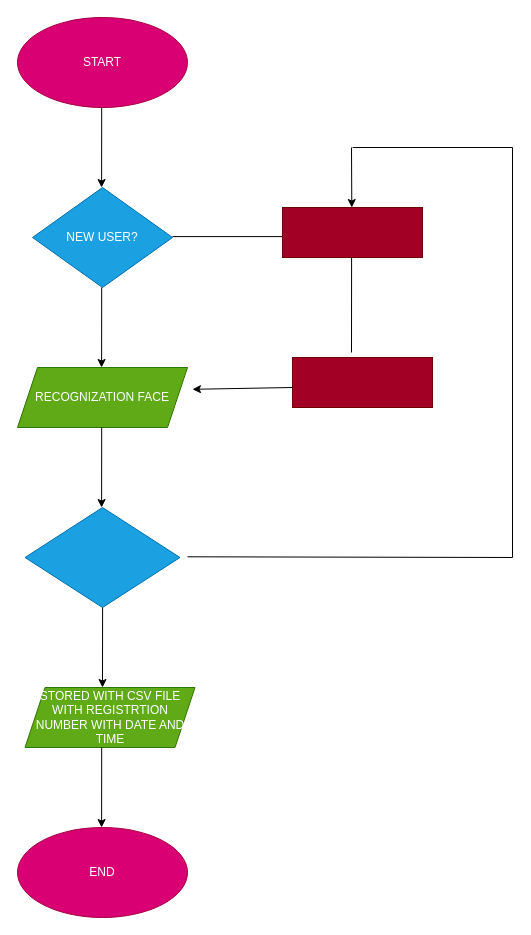
The diagram is 531 pixels wide and 935 high, and some of its shapes have lost their labels. Each missing label, with the centre of its shape:
"FACE RECOGNIZATION" goes at (x=102, y=557).
"GIVE YOUR PHOTOGRAPHY" goes at (x=352, y=232).
"STORE THE FACE DATA IN YOUR FOLDER ON YOUR NAME" goes at (x=362, y=382).
